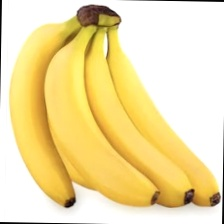banana: (37, 40, 224, 213)
